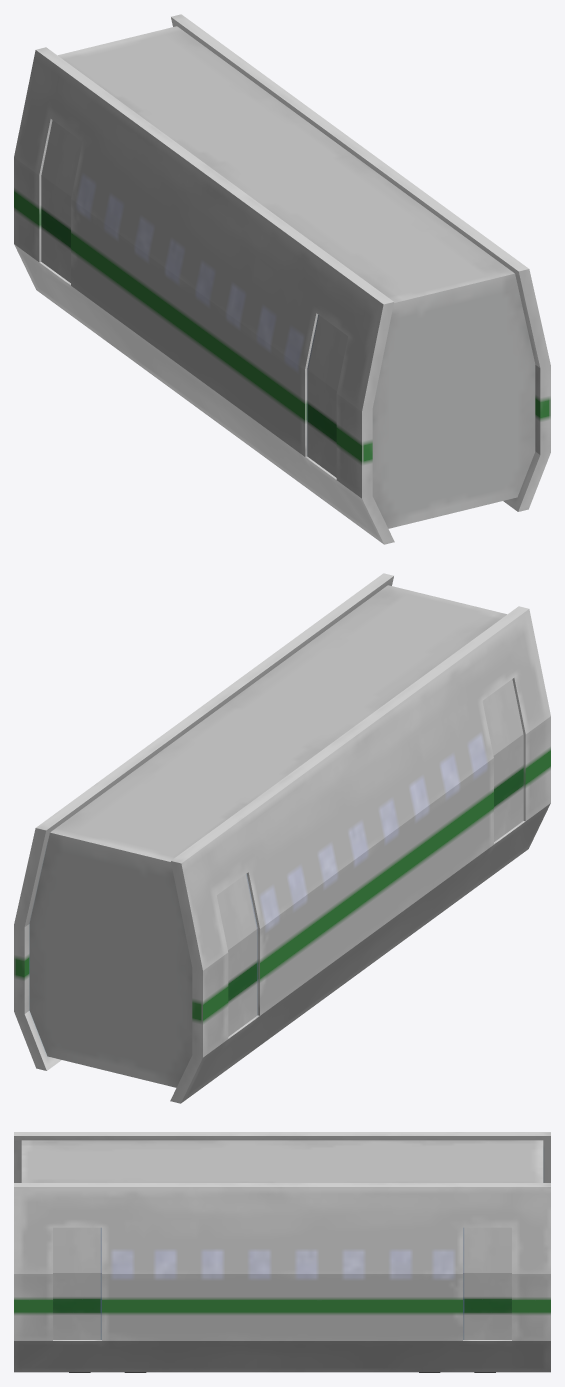
Rendered from moretrains_wagon_japan.obj.
3 views of the same model, one above another, from view 1: azimuth 30°, elevation 25°; view 2: azimuth 150°, elevation 25°; view 3: azimuth 270°, elevation 25° (orthographic). The views are drawn at different scales.
Visible parts, largest first — view 1: jw_hull_04_Cube.007, jw_hull_01_Cube.009, jw_doors_Cube.018; view 2: jw_hull_04_Cube.007, jw_hull_01_Cube.009, jw_doors_Cube.018; view 3: jw_hull_04_Cube.007, jw_hull_01_Cube.009, jw_doors_Cube.018.
Part boxes in pixels (x1,y1,x2,y2): jw_hull_04_Cube.007: [14, 14, 550, 544]; jw_hull_01_Cube.009: [58, 26, 535, 528]; jw_doors_Cube.018: [41, 120, 347, 477]; jw_hull_04_Cube.007: [14, 573, 550, 1103]; jw_hull_01_Cube.009: [29, 585, 506, 1087]; jw_doors_Cube.018: [217, 679, 523, 1036]; jw_hull_04_Cube.007: [14, 1132, 550, 1372]; jw_hull_01_Cube.009: [21, 1140, 543, 1182]; jw_doors_Cube.018: [53, 1227, 511, 1339].
Bounding box in the file's own units: 18.17 × 23.27 × 57.93.
